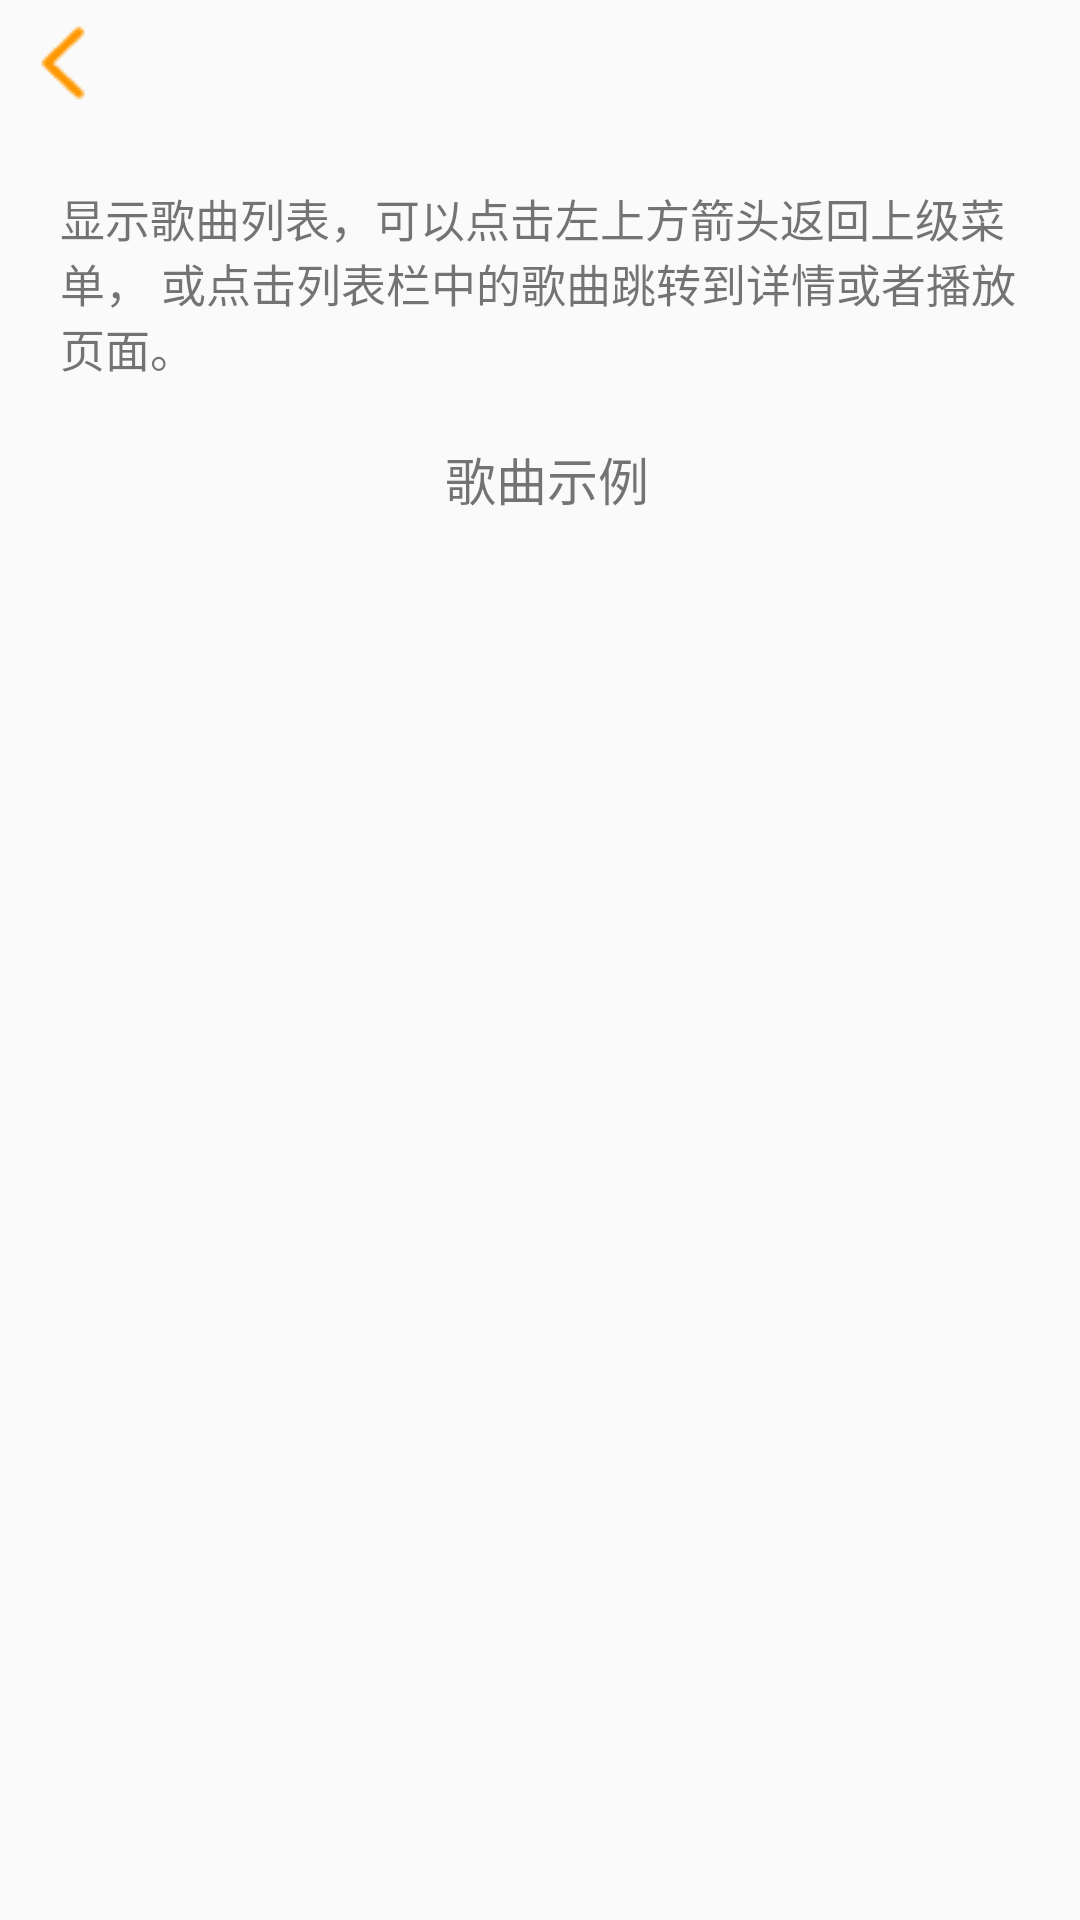

Screen size 1080 × 1920. Icon name, then its center in pixels as [x,y]:
back arrow: [63,63]
